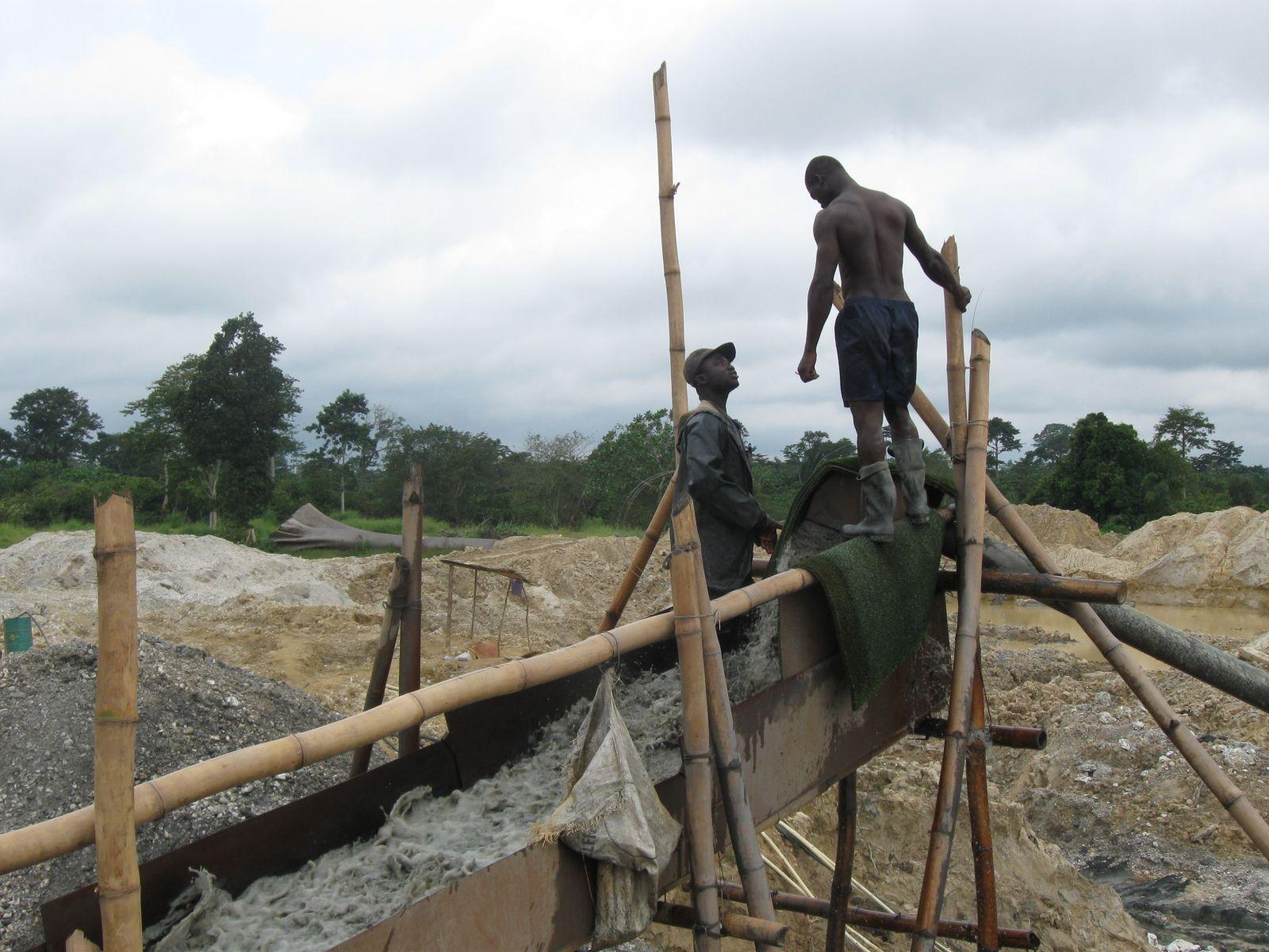Person: (792, 152, 974, 541), (681, 341, 771, 601)
ProcessingEquiment: (1, 458, 1074, 941)
Structure: (435, 544, 540, 658)
